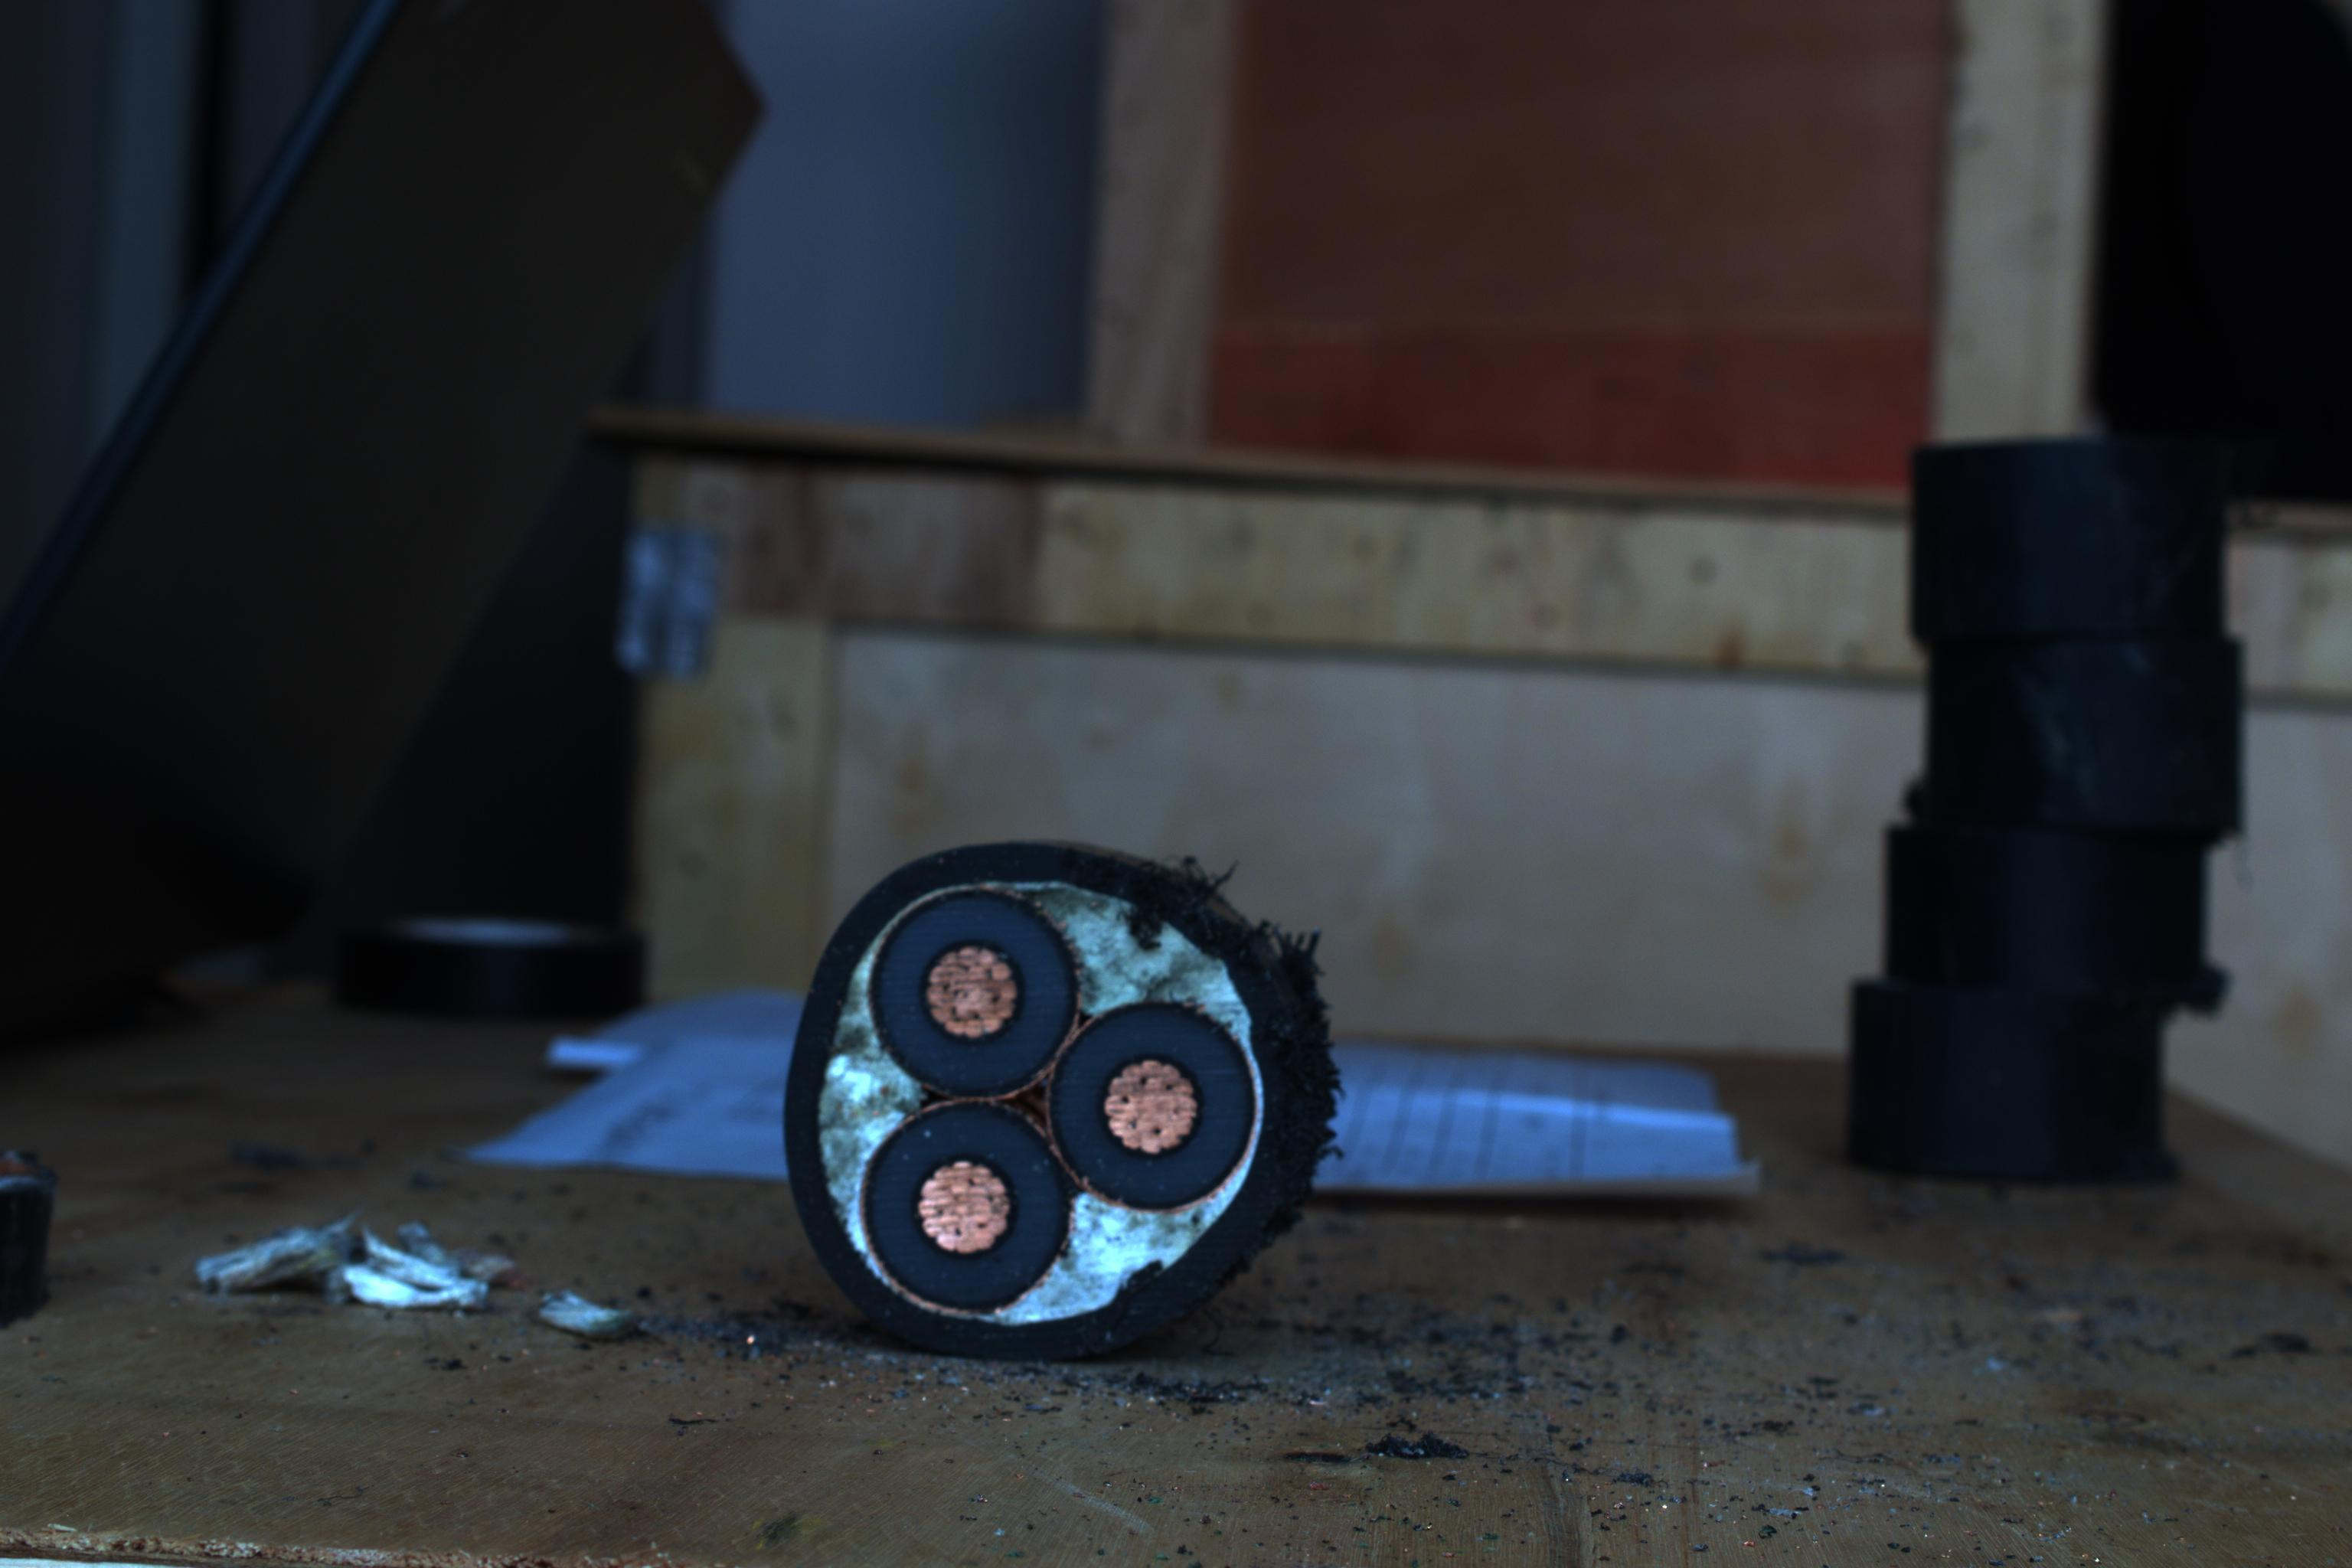YJV_8.7_10kV_3x70: (735, 814, 1295, 1326)
